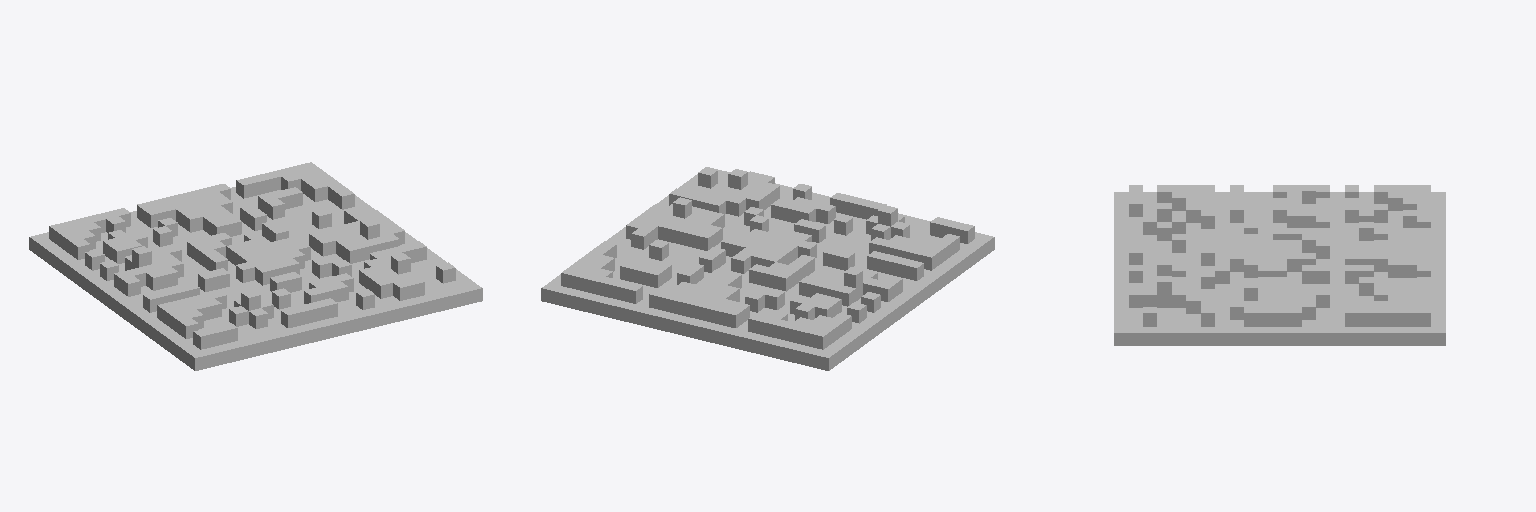
File: Cave Tile 1.obj
3 renders of one model, left to right at view 1: azimuth 30°, elevation 25°; view 2: azimuth 150°, elevation 25°; view 3: azimuth 270°, elevation 25°, orthographic.
Parts seen in each view (by area): view 1: object 1; view 2: object 1; view 3: object 1.
Boxes of the visible parts, x1,y1,x2,y2 form: object 1: [29, 162, 482, 370]; object 1: [541, 167, 994, 370]; object 1: [1114, 185, 1445, 345].
Bounding box in the file's own units: 2.3 × 0.3 × 2.3.